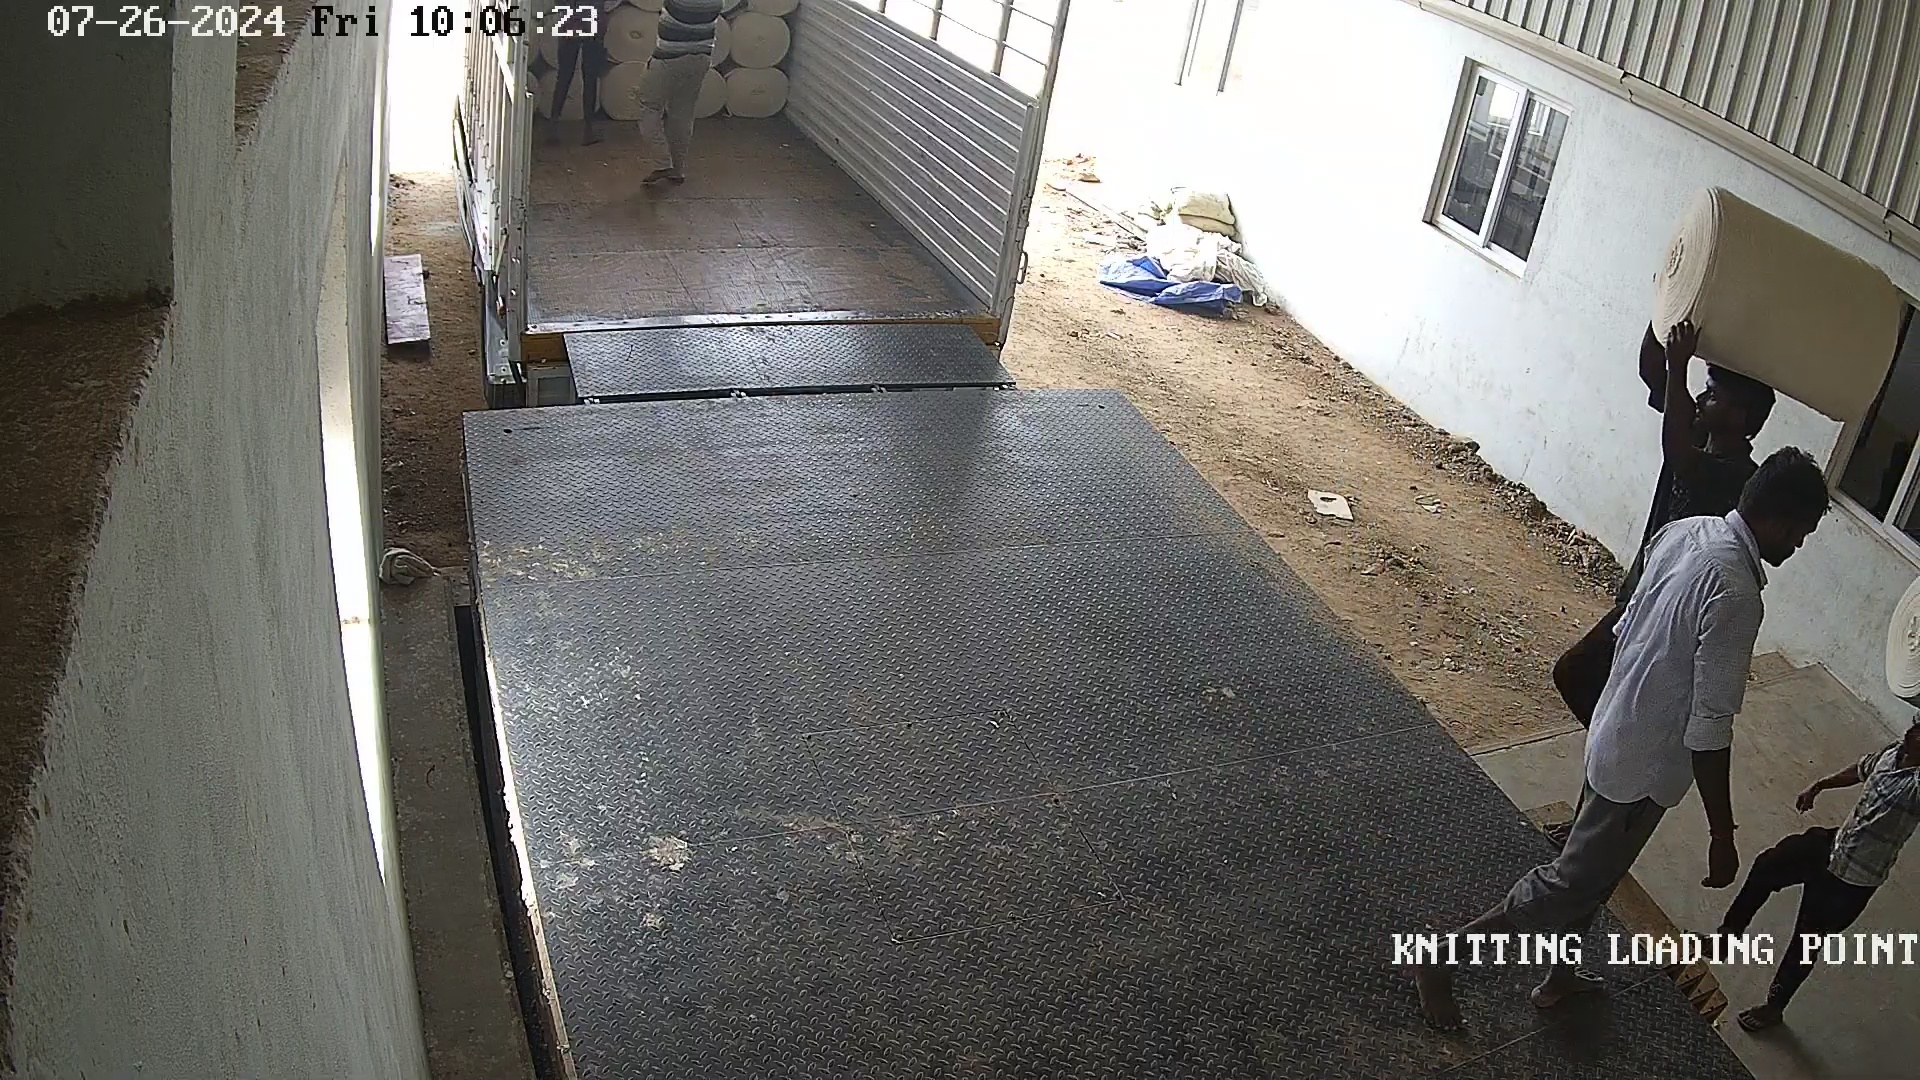bag: (1654, 183, 1905, 436)
